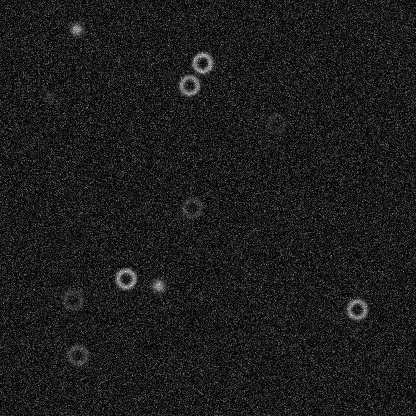Ring: (264, 111, 288, 135), (344, 297, 368, 321), (190, 50, 214, 74), (179, 195, 203, 219), (60, 287, 84, 311), (65, 343, 89, 367), (177, 73, 201, 97), (113, 266, 137, 290)
Spot: (150, 277, 166, 293), (41, 88, 57, 104), (68, 21, 84, 37)
